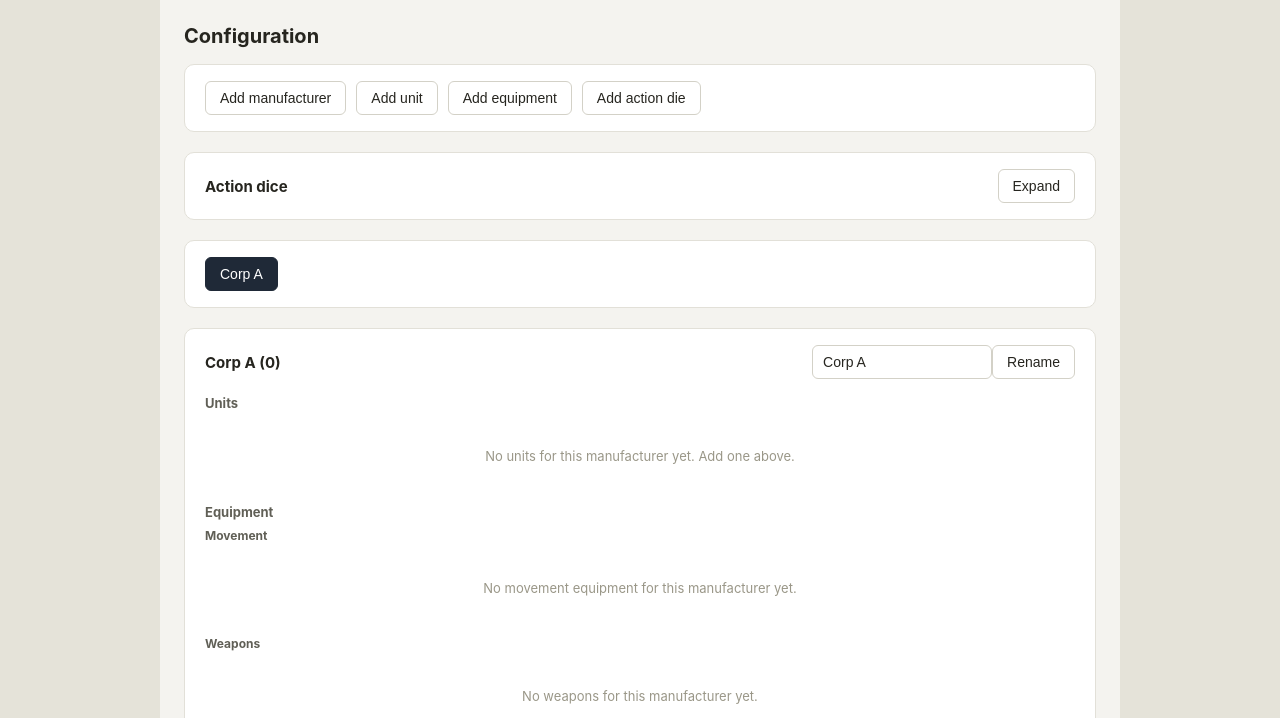
Test: ManagePage › rejects a duplicate manufacturer name
This screenshot has width=1280, height=718.
Click the button "Add manufacturer" at (276, 98), box [205,81,346,115]
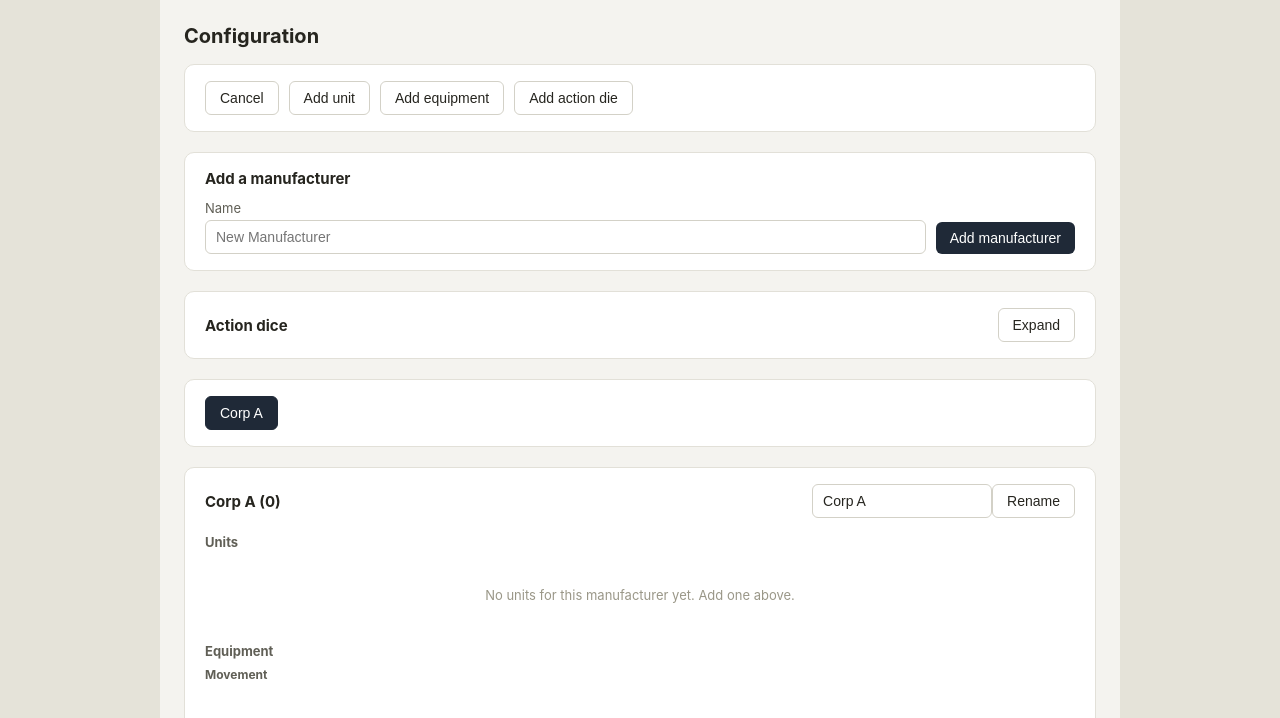
Type "Corp A" into the field with placeholder "New Manufacturer" at (565, 237), box [205,220,926,254]
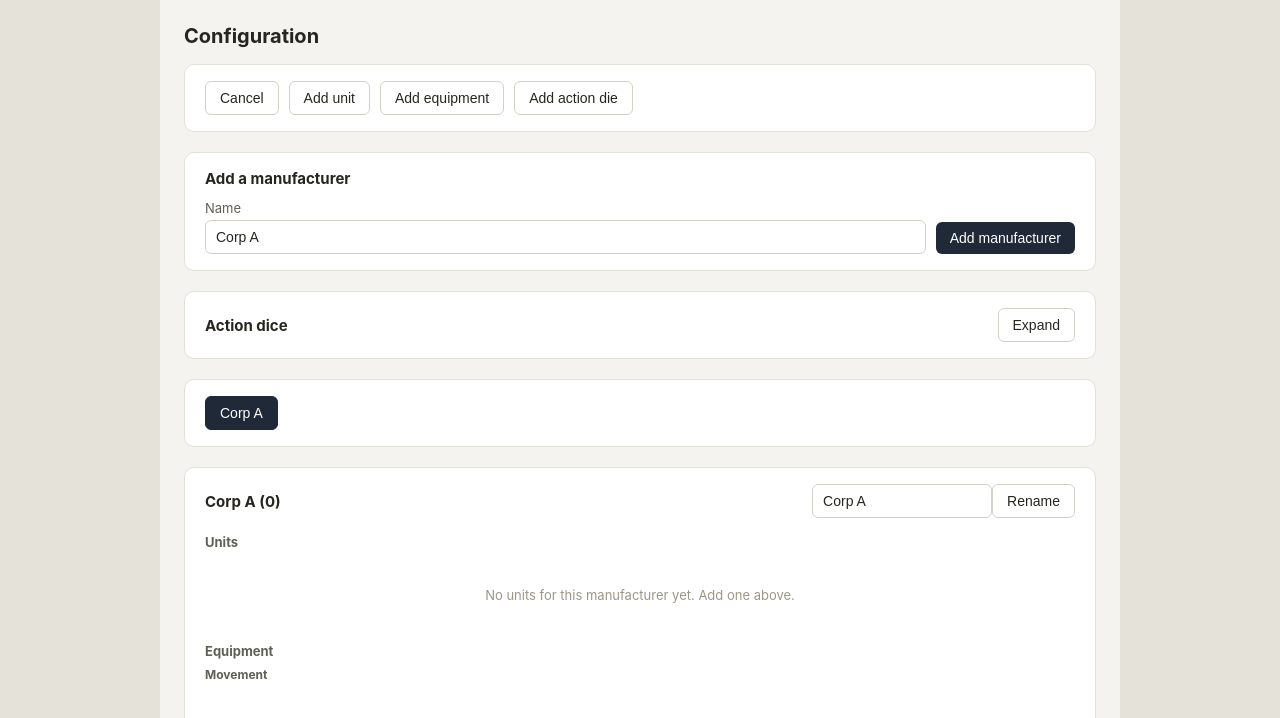
Click the button "Add manufacturer" at (1005, 238), box [936,222,1075,254]
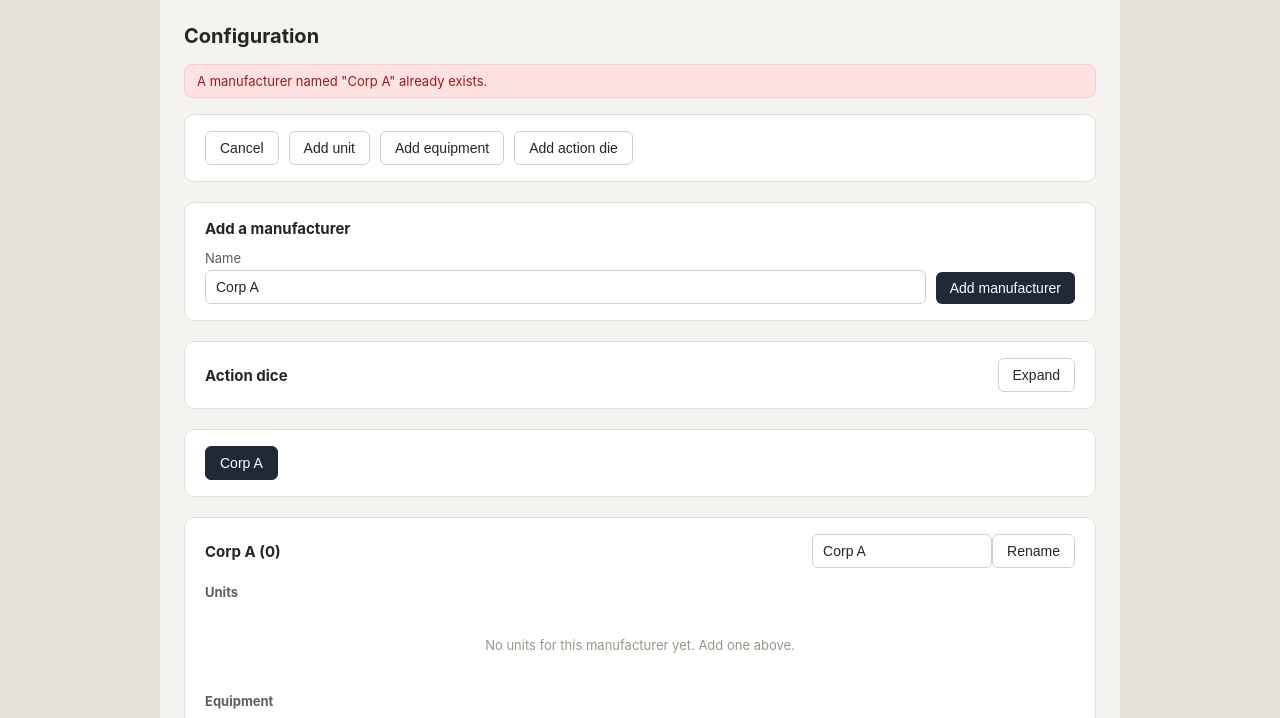
Now the text "A manufacturer named \"Corp A\" already exists." is shown, box [184,64,1096,98]
